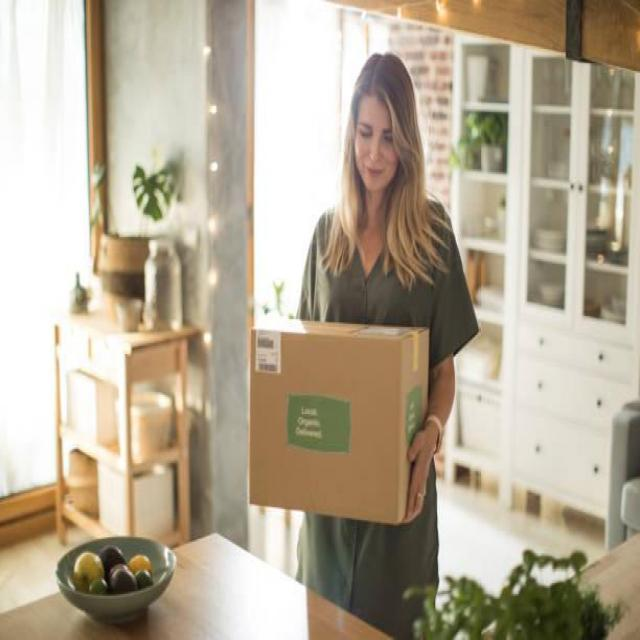box: (245, 307, 431, 527)
